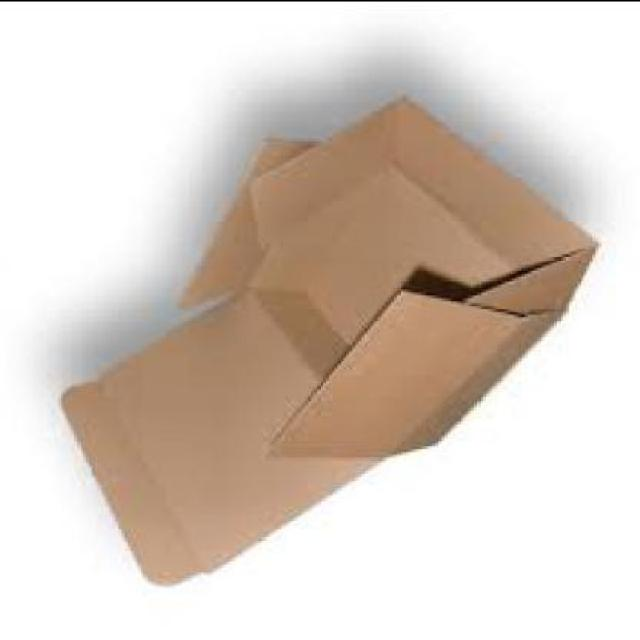CARDBOARD: (60, 90, 595, 582)
